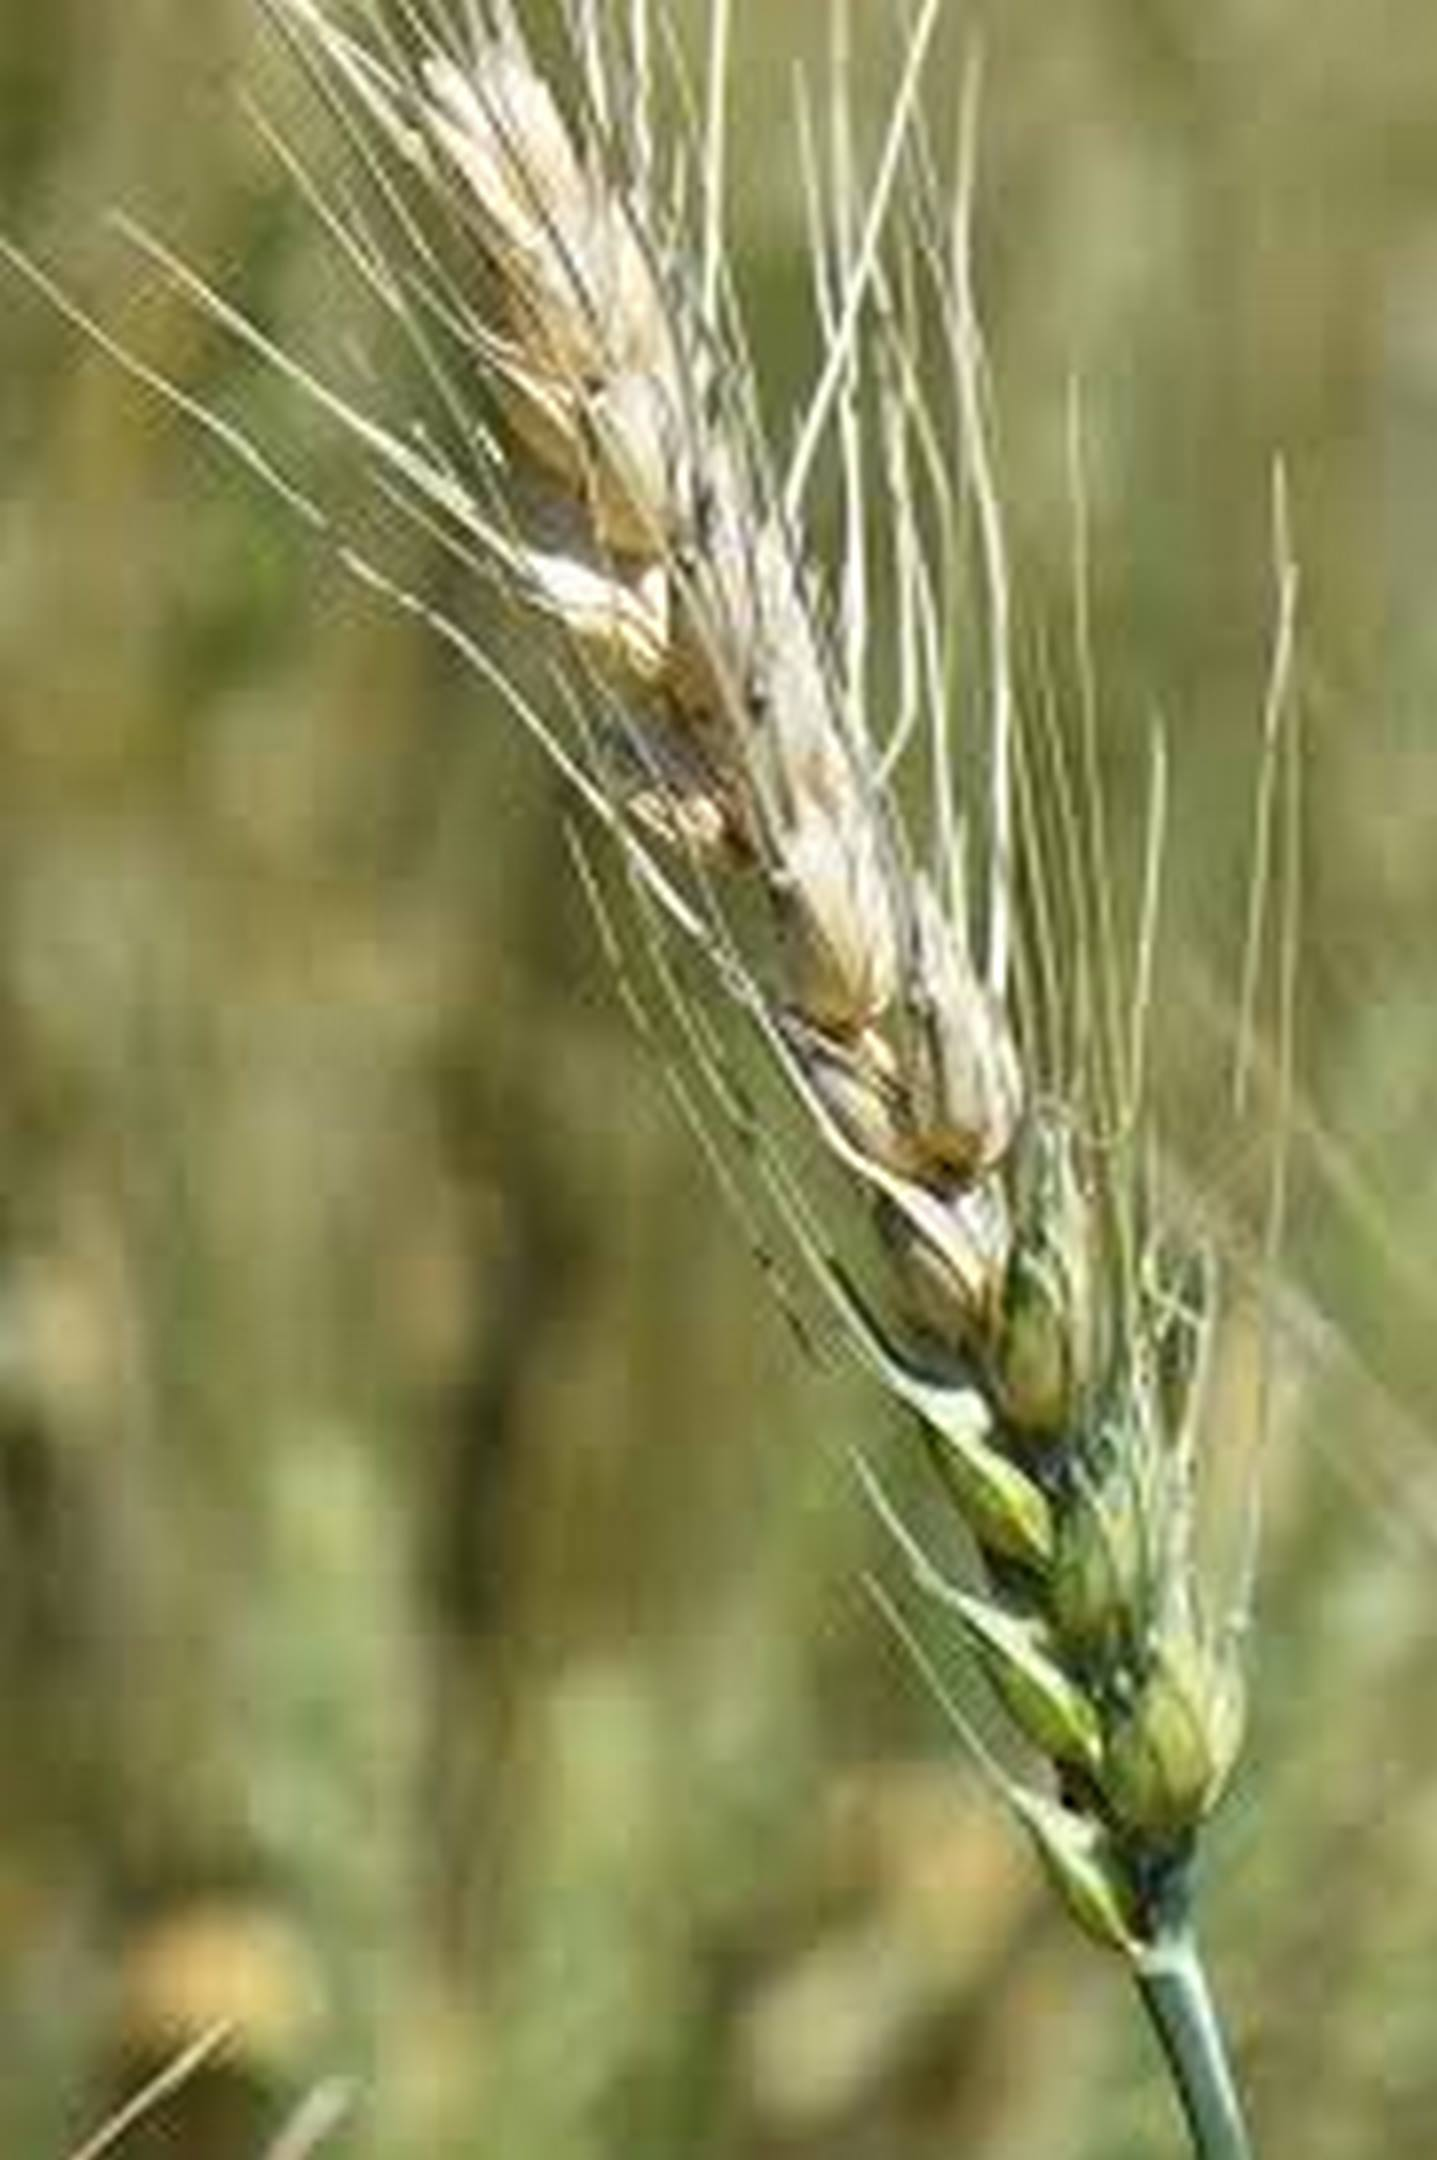Wheat scab: (367, 61, 1297, 1940)
